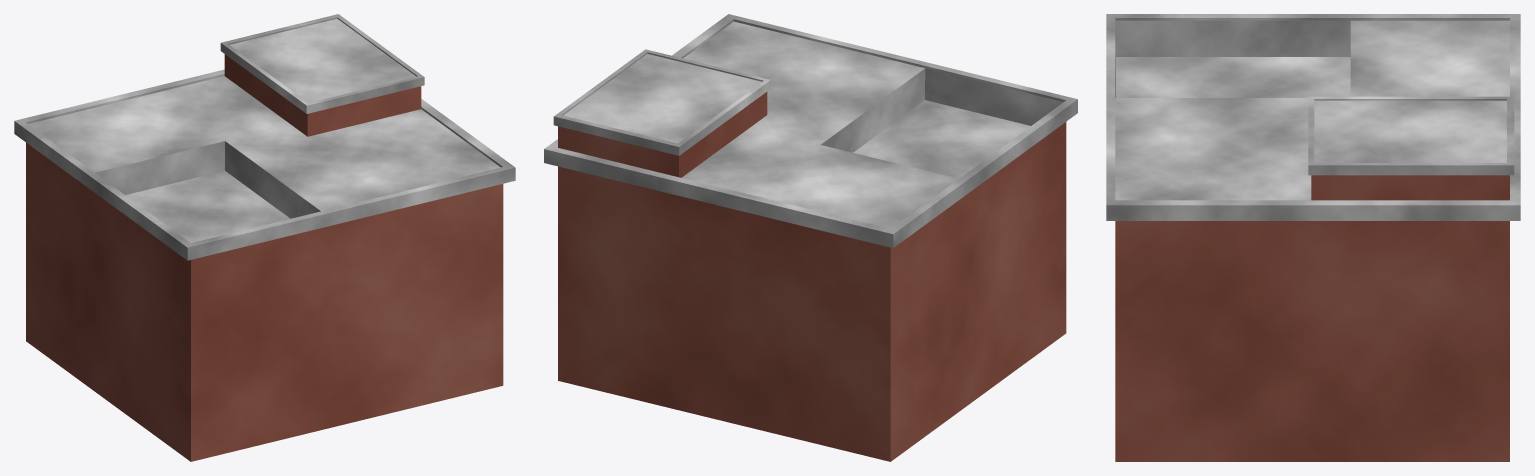
Rendered from 43firstblock.FBX.
3 views of the same model, side by side, from view 1: azimuth 30°, elevation 25°; view 2: azimuth 150°, elevation 25°; view 3: azimuth 270°, elevation 25° (orthographic). The views are drawn at different scales.
Parts seen in each view (by area): view 1: Box001; view 2: Box001; view 3: Box001.
Part boxes in pixels (x1,y1,x2,y2): Box001: [14, 14, 515, 461]; Box001: [544, 14, 1077, 461]; Box001: [1106, 14, 1520, 461].
Size of the model in its own units: 1365 by 990 by 1249.
Materials: 1 (1 with a texture image).
